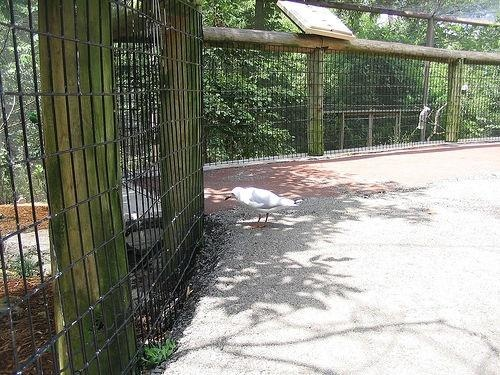bird: (224, 186, 297, 230)
